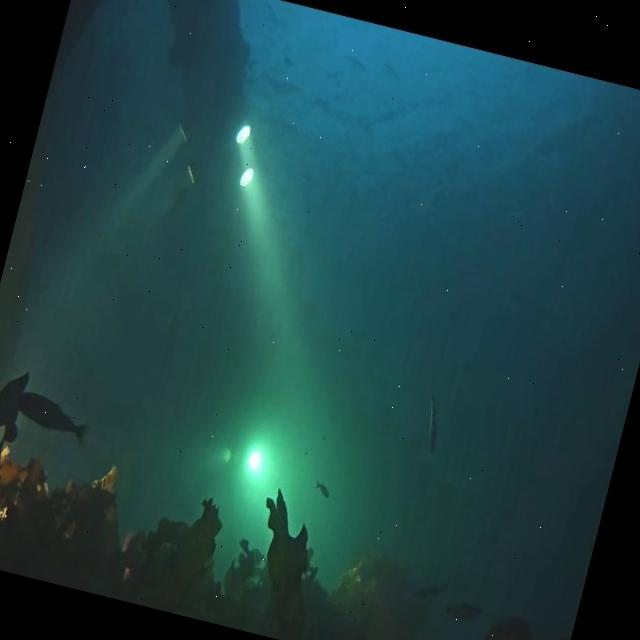fish: (14, 388, 93, 447), (414, 389, 450, 456), (443, 598, 482, 628), (414, 579, 446, 604), (310, 478, 332, 500)
